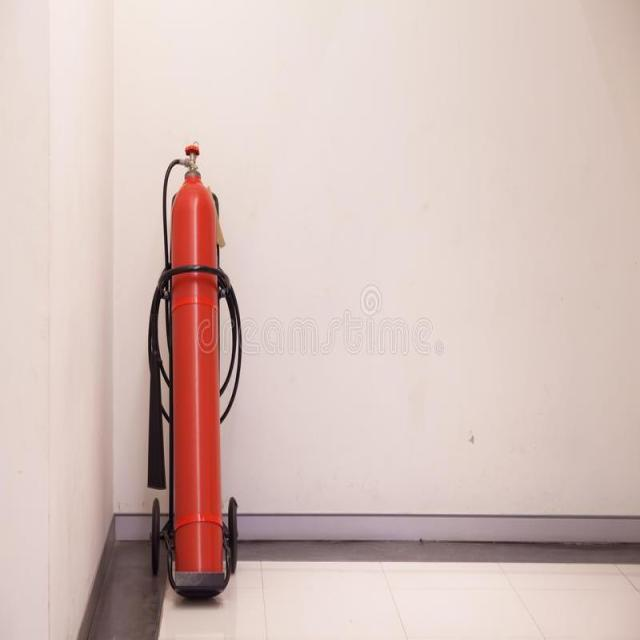fire_extinguisher: (144, 134, 235, 609)
